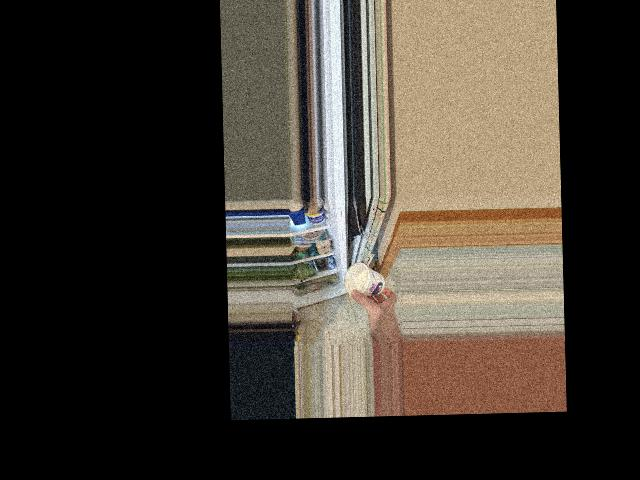cotage: (345, 265, 385, 298)
